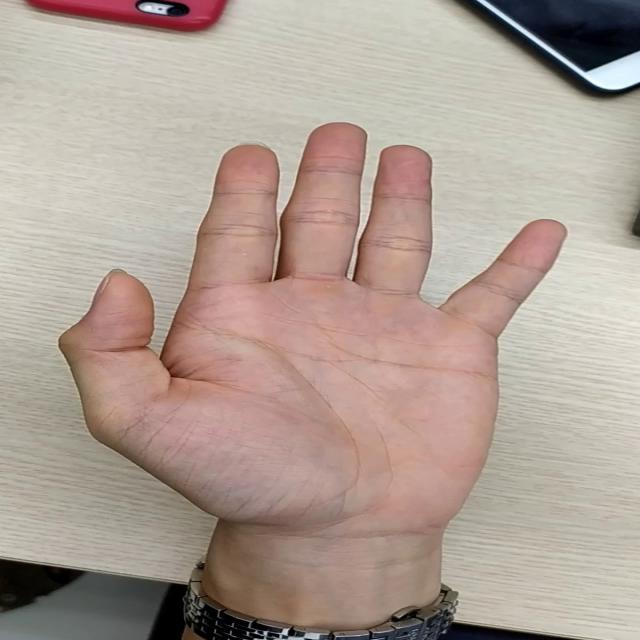hand: (71, 126, 553, 527)
